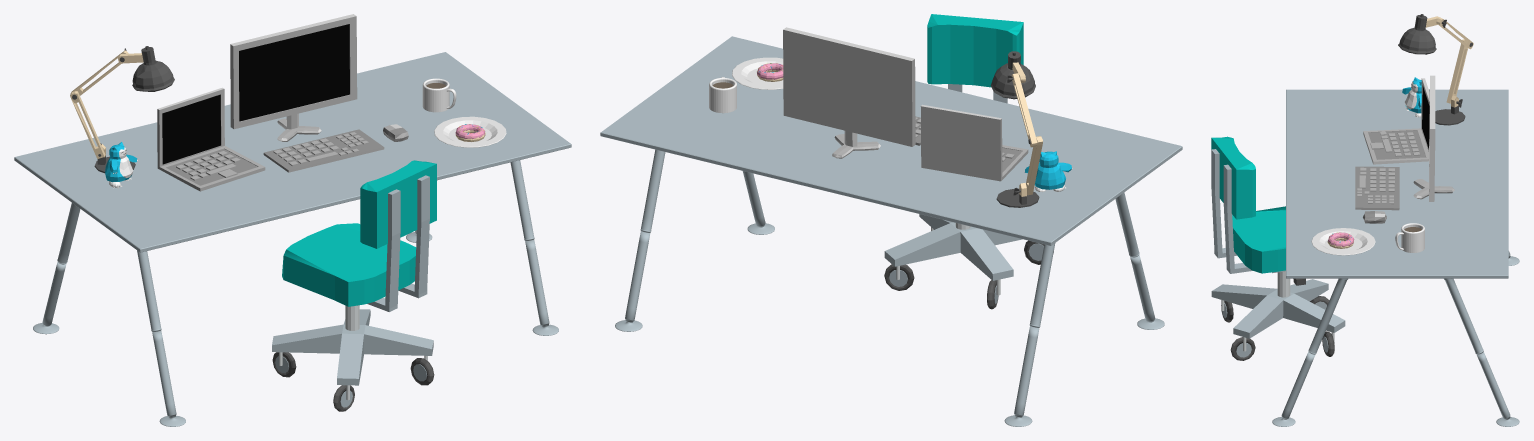
Rendered from desk.gltf.
3 views of the same model, side by side, from view 1: azimuth 30°, elevation 25°; view 2: azimuth 150°, elevation 25°; view 3: azimuth 270°, elevation 25° (orthographic). The views are drawn at different scales.
Parts seen in each view (by area): view 1: table, Object.1, group1245598860, group646429156, Object.6, group1058027361, Object.7, Object.30, group173738516, group772163389, 498 Plates, group289902031 (+4 smaller); view 2: table, Object.1, group1058027361, Object.6, group646429156, group104282217, 498 Plates, group289902031, group1667276076, group1933021004, Round, group778822713; view 3: table, group646429156, group1245598860, group1058027361, Object.7, Object.30, 498 Plates, group173738516, group772163389, Object.1, group289902031, Round (+6 smaller).
Part boxes in pixels (left/top/right/bottom): table: left=14, top=52, right=571, bottom=426; Object.1: left=230, top=14, right=357, bottom=129; group1245598860: left=282, top=223, right=416, bottom=306; group646429156: left=272, top=309, right=433, bottom=385; Object.6: left=157, top=87, right=224, bottom=169; group1058027361: left=360, top=160, right=436, bottom=248; Object.7: left=159, top=146, right=265, bottom=191; Object.30: left=263, top=129, right=384, bottom=172; group173738516: left=414, top=175, right=429, bottom=294; group772163389: left=385, top=189, right=400, bottom=308; 498 Plates: left=434, top=116, right=506, bottom=147; group289902031: left=132, top=60, right=174, bottom=91; table: left=600, top=36, right=1182, bottom=426; Object.1: left=783, top=27, right=915, bottom=146; group1058027361: left=927, top=14, right=1023, bottom=87; Object.6: left=920, top=104, right=1002, bottom=181; group646429156: left=884, top=214, right=1022, bottom=280; group104282217: left=1025, top=151, right=1071, bottom=189; 498 Plates: left=732, top=57, right=783, bottom=89; group289902031: left=990, top=63, right=1035, bottom=99; group1667276076: left=996, top=182, right=1039, bottom=207; group1933021004: left=884, top=264, right=914, bottom=290; Round: left=709, top=78, right=736, bottom=113; group778822713: left=1011, top=73, right=1037, bottom=147; table: left=1272, top=89, right=1519, bottom=426; group646429156: left=1211, top=279, right=1345, bottom=338; group1245598860: left=1232, top=206, right=1285, bottom=273; group1058027361: left=1211, top=136, right=1255, bottom=219; Object.7: left=1363, top=128, right=1428, bottom=164; Object.30: left=1355, top=166, right=1399, bottom=210; 498 Plates: left=1311, top=228, right=1375, bottom=255; group173738516: left=1223, top=164, right=1234, bottom=270; group772163389: left=1211, top=149, right=1222, bottom=255; Object.1: left=1429, top=75, right=1435, bottom=201; group289902031: left=1398, top=27, right=1436, bottom=54; Round: left=1401, top=223, right=1424, bottom=252.
Size of the model in its own units: 55.02 by 37.41 by 38.52.
28 materials, 1 textured.
